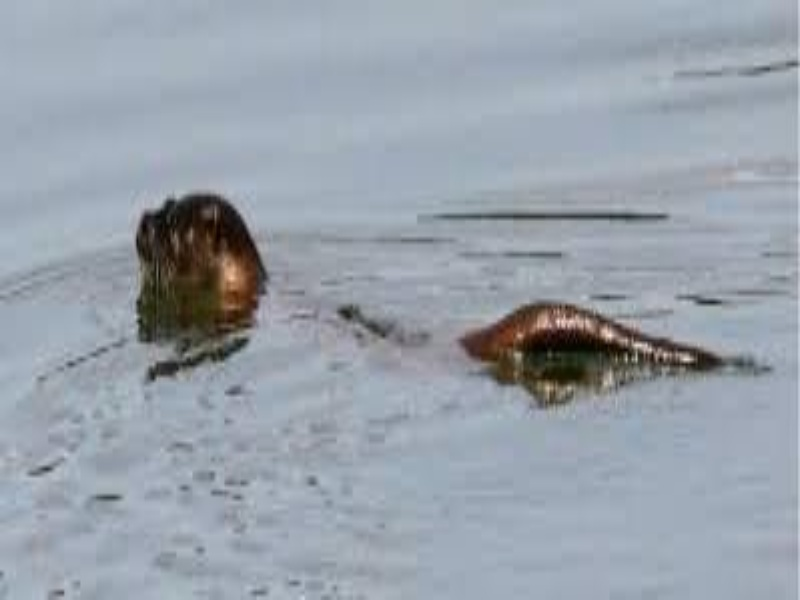minkish: (133, 189, 266, 302)
